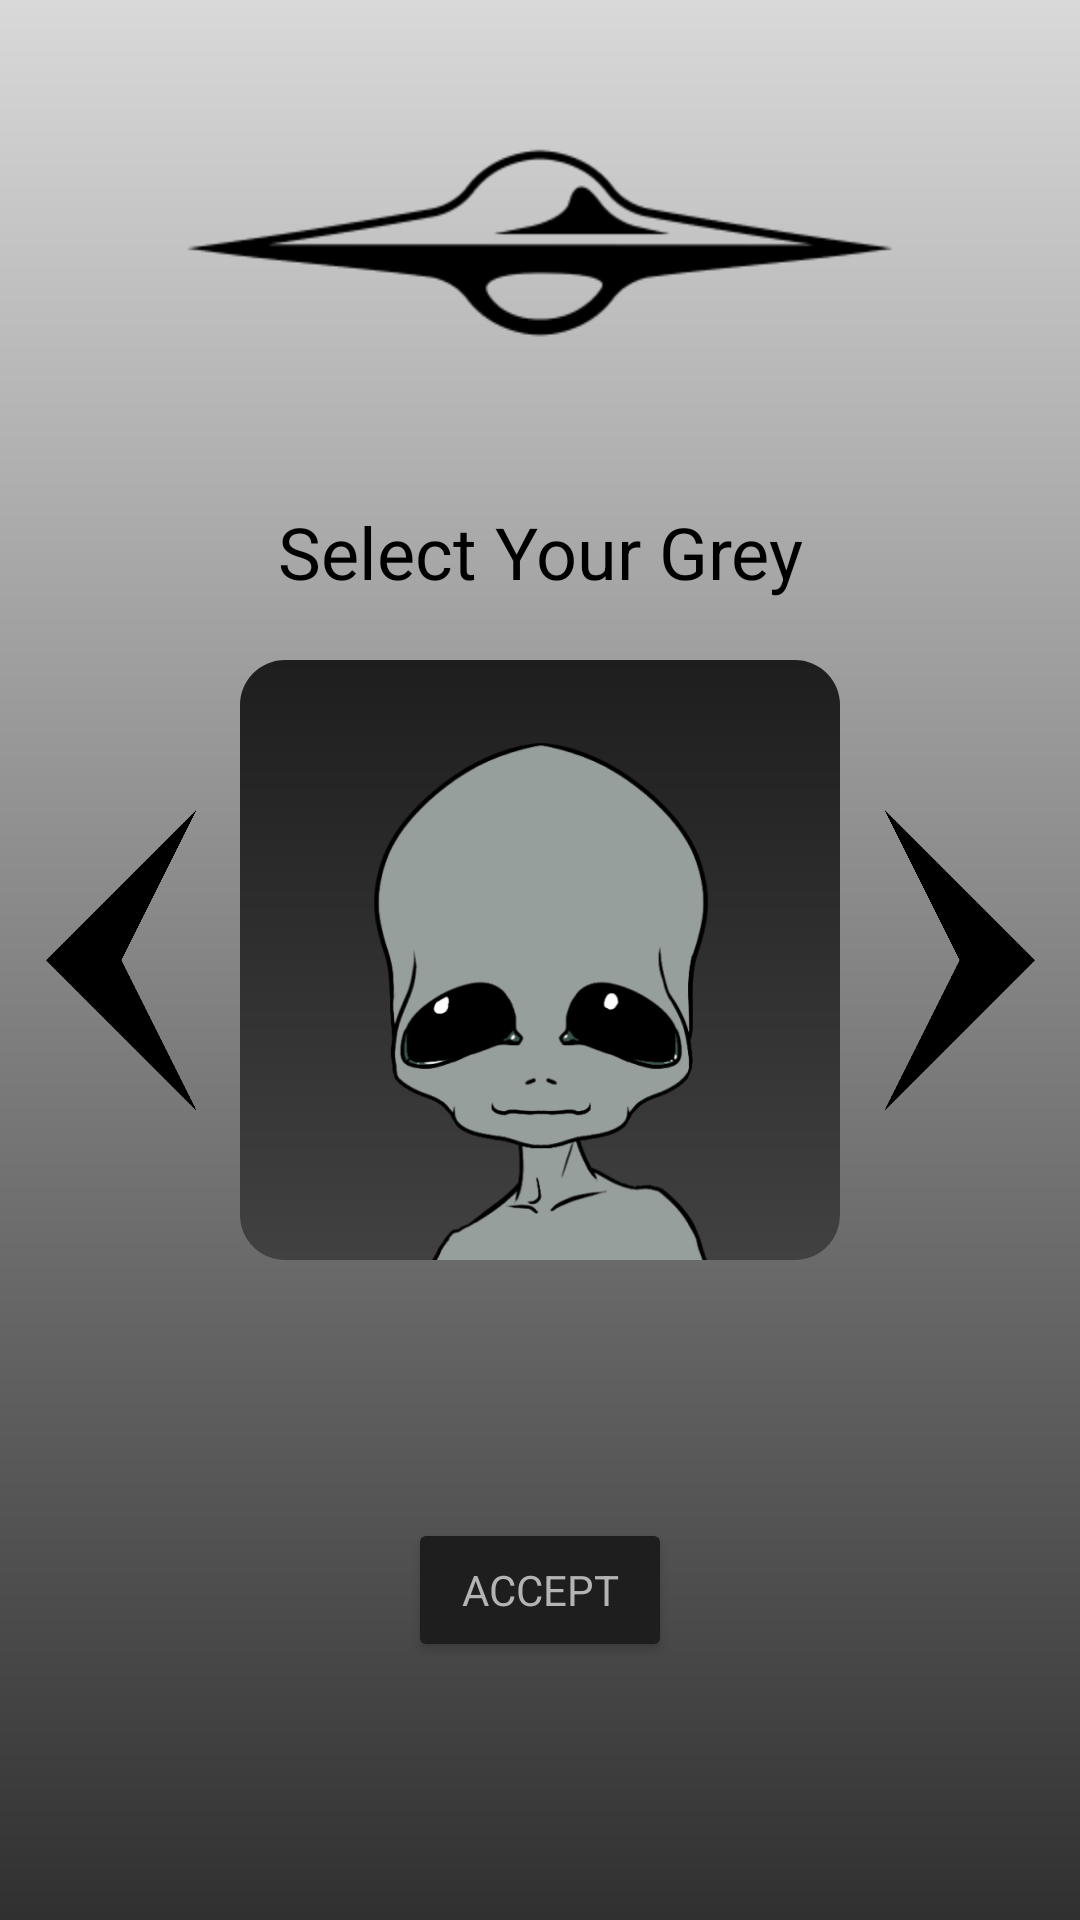

Named icons in this screenshot (1080x1920) and their centers, point (x, y):
left arrow: point (135, 960)
right arrow: point (945, 960)
